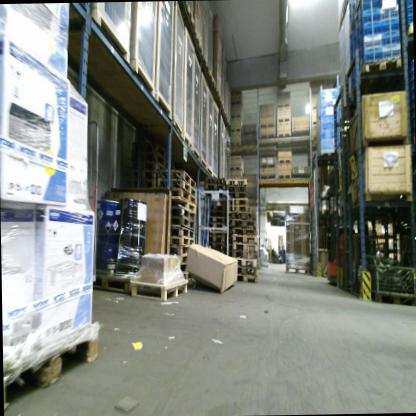forklift: (326, 176, 357, 288)
pallet: (2, 316, 105, 410), (347, 57, 402, 102), (87, 265, 135, 297), (132, 275, 189, 298), (370, 289, 416, 306), (133, 141, 170, 162), (348, 0, 369, 35), (159, 179, 197, 198), (133, 151, 171, 169), (158, 170, 195, 188), (133, 160, 171, 176), (183, 3, 198, 37), (166, 189, 195, 206), (131, 169, 166, 181), (172, 197, 196, 214), (316, 148, 339, 164), (171, 215, 194, 231), (285, 263, 311, 276), (172, 207, 194, 222), (231, 233, 258, 245), (234, 271, 258, 284), (170, 235, 194, 248), (171, 225, 193, 239), (233, 249, 258, 261), (132, 179, 161, 189), (231, 226, 258, 236), (232, 257, 257, 267), (232, 241, 258, 250), (231, 219, 257, 228), (169, 251, 190, 262), (194, 34, 204, 57), (230, 212, 258, 220), (169, 246, 193, 255), (236, 265, 257, 275), (206, 207, 225, 217), (200, 54, 209, 75), (227, 197, 248, 206), (202, 191, 224, 199), (206, 234, 223, 244), (207, 68, 215, 89), (210, 88, 222, 102), (226, 184, 247, 192), (227, 206, 248, 214), (226, 178, 246, 186), (205, 183, 225, 191), (226, 192, 248, 199), (178, 262, 191, 273), (205, 177, 225, 184), (404, 20, 413, 35), (206, 215, 225, 222), (206, 222, 225, 229), (204, 204, 225, 210), (204, 199, 225, 204), (218, 100, 225, 114), (206, 229, 225, 234), (223, 115, 230, 128), (182, 273, 193, 280), (210, 243, 224, 248), (227, 219, 233, 227), (228, 250, 233, 257), (228, 212, 232, 220), (228, 243, 232, 250), (228, 226, 232, 232), (227, 237, 231, 243), (267, 249, 271, 252), (228, 234, 231, 237), (268, 253, 271, 256), (268, 258, 271, 261), (267, 251, 271, 253), (268, 256, 271, 258), (268, 261, 271, 263)
small_load_carrier: (360, 46, 383, 71), (356, 19, 379, 38), (355, 32, 379, 50), (355, 5, 377, 24), (380, 41, 400, 61), (379, 0, 398, 18), (380, 27, 399, 41), (357, 0, 380, 10), (380, 18, 399, 29), (404, 6, 413, 20), (404, 15, 411, 27), (404, 0, 412, 8), (409, 60, 414, 71), (409, 99, 414, 108), (410, 70, 413, 82), (409, 89, 413, 98), (411, 108, 414, 119), (409, 81, 413, 89)
stillage: (355, 258, 416, 293)
